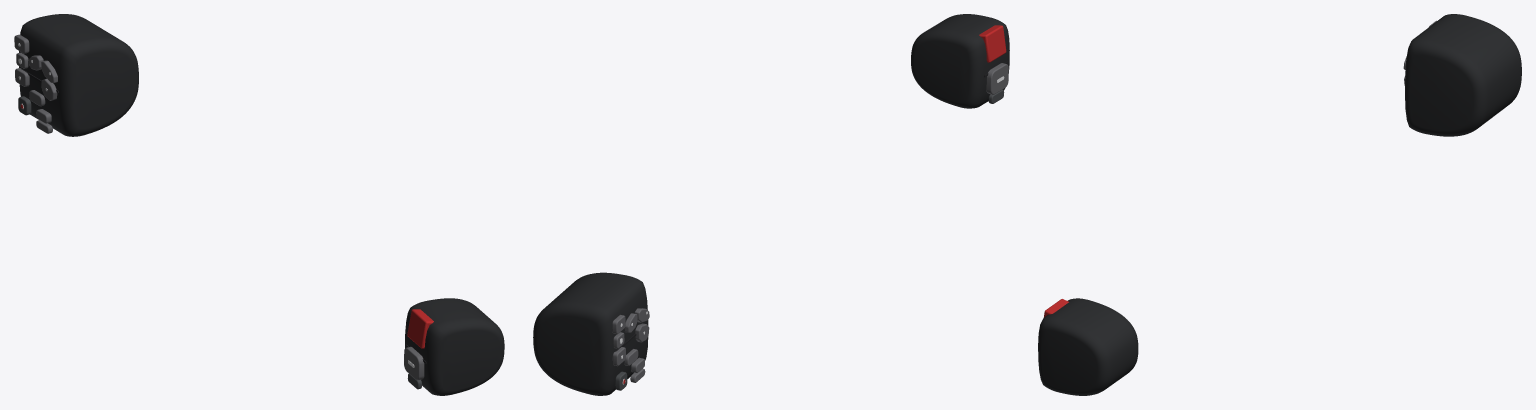
File: cruise.glb
3 views of the same model, side by side, from view 1: azimuth 30°, elevation 25°; view 2: azimuth 150°, elevation 25°; view 3: azimuth 330°, elevation 25° (orthographic).
Parts seen in each view (by area): view 1: switches_cruise; view 2: switches_cruise; view 3: switches_cruise.
Boxes of the visible parts, x1,y1,x2,y2 form: switches_cruise: (14, 14, 504, 395); switches_cruise: (533, 14, 1009, 395); switches_cruise: (1038, 14, 1521, 395).
Size of the model in its own units: 0.061 by 0.063 by 0.5083.
